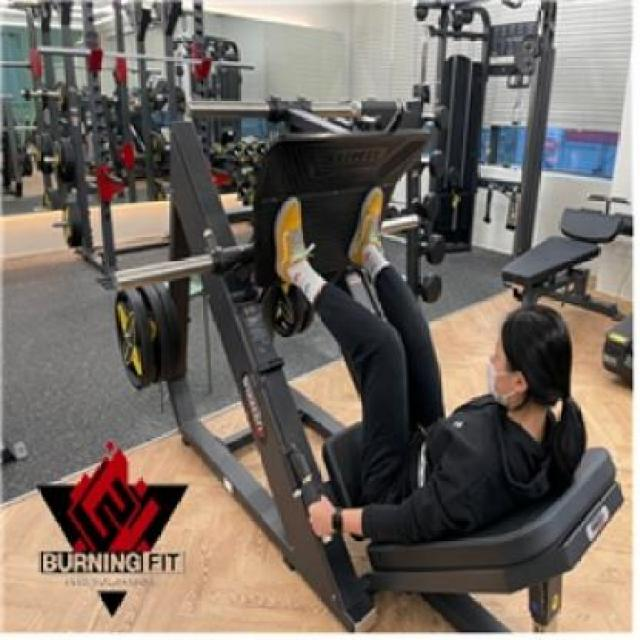leg press: (77, 84, 640, 640)
